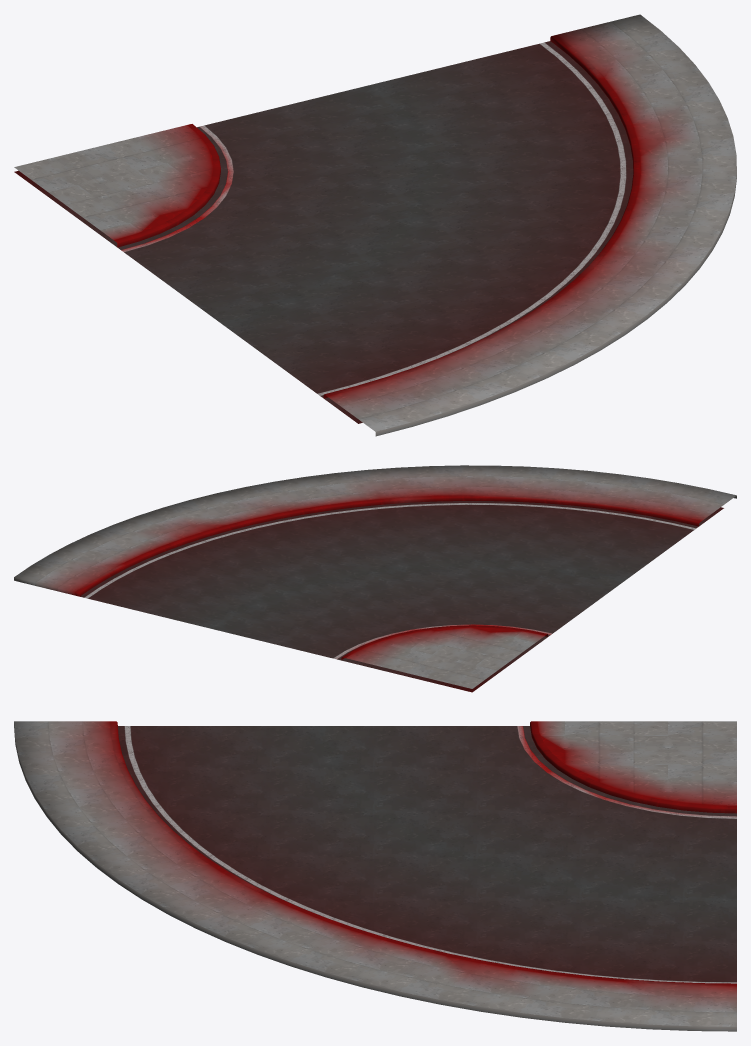
The model's file is Street_Curve_4LaneLong.gltf.
3 views of the same model, one above another, from view 1: azimuth 30°, elevation 25°; view 2: azimuth 150°, elevation 25°; view 3: azimuth 270°, elevation 25° (orthographic). The views are drawn at different scales.
Visible parts, largest first — view 1: Street_Curve_4LaneLong; view 2: Street_Curve_4LaneLong; view 3: Street_Curve_4LaneLong.
Boxes of the visible parts, x1,y1,x2,y2 form: Street_Curve_4LaneLong: (14,14,736,436); Street_Curve_4LaneLong: (14,465,736,692); Street_Curve_4LaneLong: (14,721,736,1031).
Size of the model in its own units: 21 by 0.15 by 21.
Materials: 3 (3 with a texture image).
